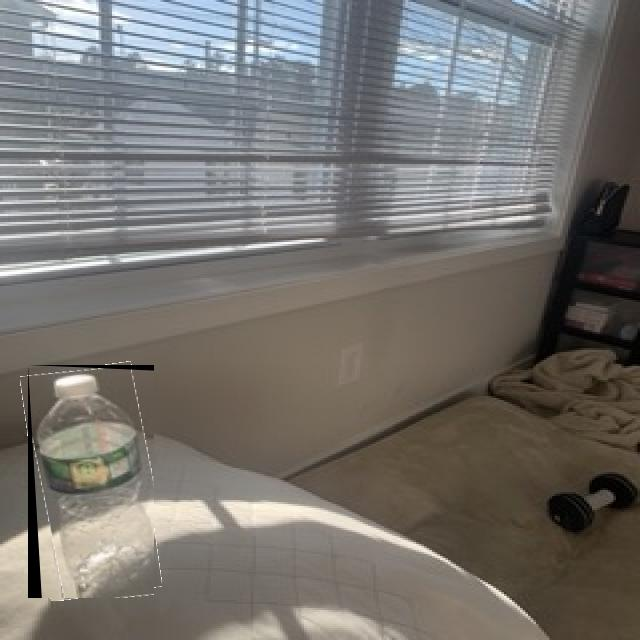water_bottle: (28, 365, 154, 598)
